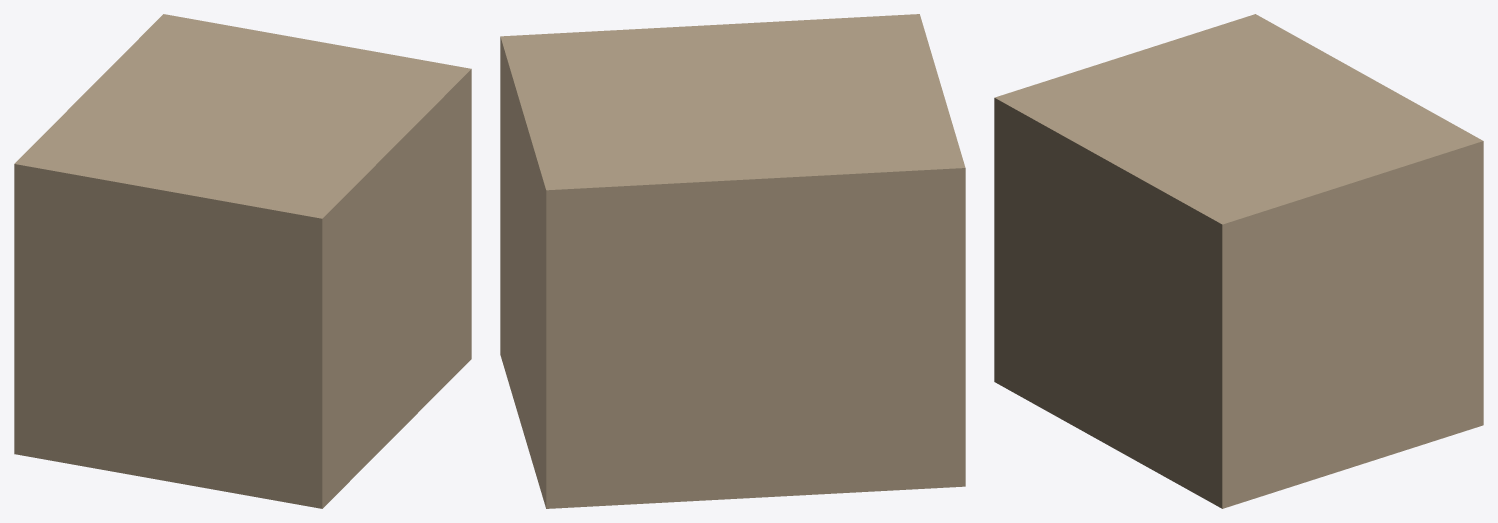
File: bld_101805950.dae
3 renders of one model, left to right at view 1: azimuth 30°, elevation 25°; view 2: azimuth 150°, elevation 25°; view 3: azimuth 270°, elevation 25°, orthographic. The views are drawn at different scales.
Parts seen in each view (by area): view 1: bld_101805950; view 2: bld_101805950; view 3: bld_101805950.
Part boxes in pixels (left/top/right/bottom): bld_101805950: left=14, top=14, right=471, bottom=508; bld_101805950: left=500, top=14, right=965, bottom=508; bld_101805950: left=994, top=14, right=1483, bottom=508.
Bounding box in the file's own units: 12.71 × 12.47 × 8.
